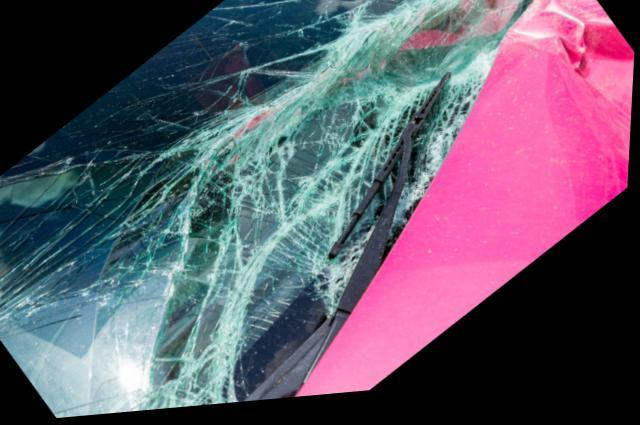dent: (528, 0, 636, 166)
